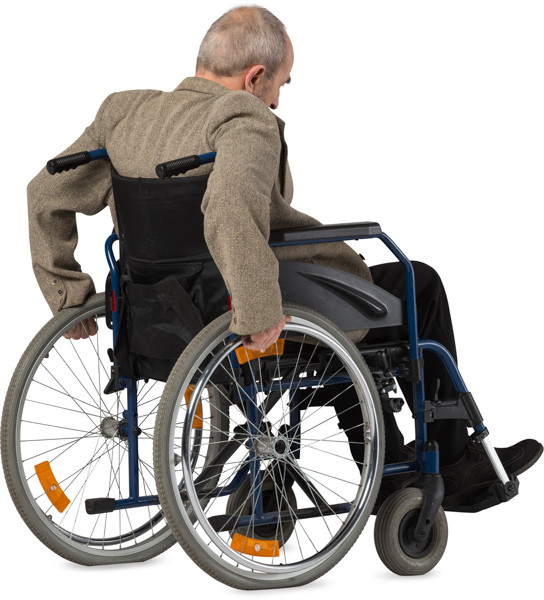wheelchair: (1, 2, 544, 592)
